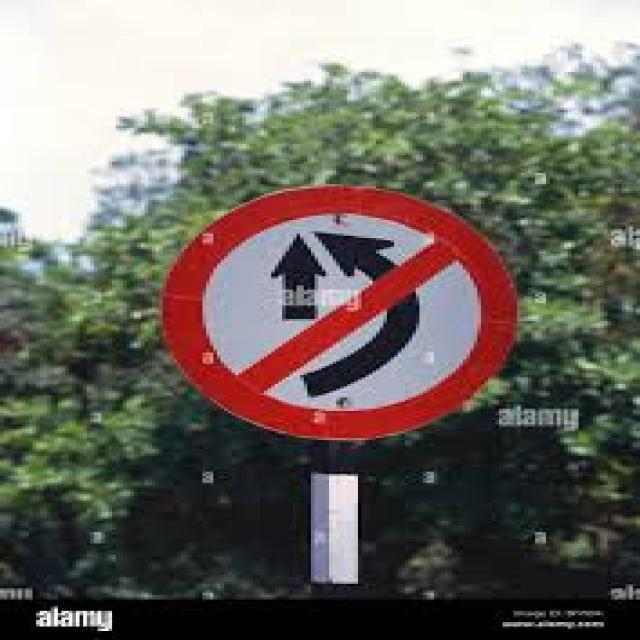overtaking prohibited: (166, 188, 529, 447)
